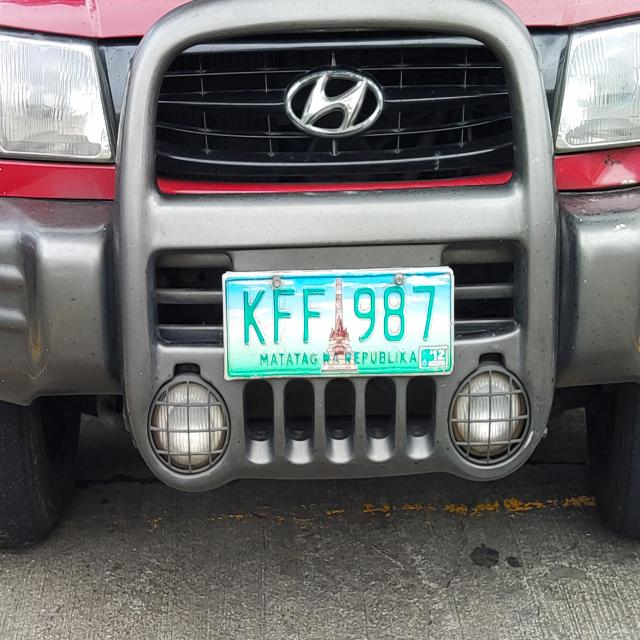plate: (220, 263, 457, 384)
